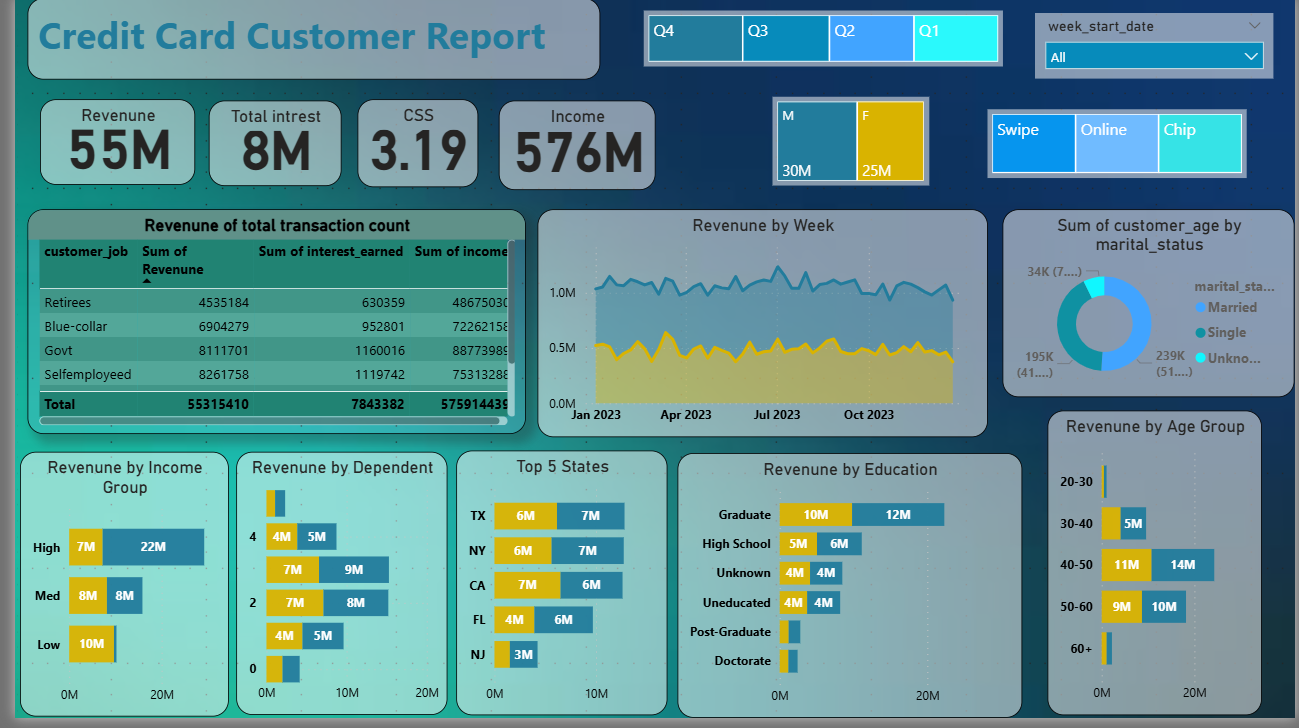

What the dashboard file says about the page in this screenshot:
{"tool":"powerbi","page":{"name":"CC Customer","canvas":[1280,720],"ordinal":2},"visuals":[{"type":"textbox","box":[12.5,0,572.5,81.2],"z":0},{"type":"tableEx","title":"Revenune of total transaction count","fields":{"Values":["public cust_detail.customer_job","Sum(public cc_detail.Revenune)","Sum(public cc_detail.interest_earned)","Sum(public cust_detail.income)"]},"box":[12.3,211.3,498.1,225],"z":1000},{"type":"card","title":" Revenune ","fields":{"Values":["Sum(public cc_detail.Revenune)"]},"box":[25.3,101.2,155.1,86],"z":2000},{"type":"card","title":" Income","fields":{"Values":["Sum(public cust_detail.income)"]},"box":[483.9,102.8,156.8,89.4],"z":3000},{"type":"card","title":"Total intrest ","fields":{"Values":["Sum(public cc_detail.interest_earned)"]},"box":[193.9,102.8,133.2,86],"z":4000},{"type":"card","title":"CSS","fields":{"Values":["Avg(public cust_detail.cust_satisfaction_score)"]},"box":[343.1,101.5,120.8,87.8],"z":5000},{"type":"slicer","fields":{"Values":["public cc_detail.week_start_date"]},"box":[1019.6,15.1,238.8,65.9],"z":6000},{"type":"treemap","fields":{"Group":["public cc_detail.qtr"],"Values":["Avg(public cc_detail.client_num)"]},"box":[628.5,12.3,359.5,56.3],"z":7000},{"type":"treemap","fields":{"Group":["public cc_detail.use_chip"],"Values":["Avg(public cc_detail.client_num)"]},"box":[972.9,111.1,259.3,68.6],"z":8000},{"type":"stackedAreaChart","title":"Revenune by Week","fields":{"Category":["public cc_detail.week_start_date.Variation.Date Hierarchy.Year","public cc_detail.week_start_date.Variation.Date Hierarchy.Month","public cc_detail.week_start_date.Variation.Date Hierarchy.Day"],"Y":["Sum(public cc_detail.Revenune)"],"Series":["public cust_detail.gender"]},"box":[522.8,211.3,450.1,227.8],"z":9000},{"type":"treemap","fields":{"Group":["public cust_detail.gender"],"Values":["Sum(public cc_detail.Revenune)"]},"box":[757.5,98.8,156.4,89.2],"z":10000},{"type":"barChart","title":"Revenune by Age Group","fields":{"Category":["public cust_detail.Age_group","public cust_detail.Income_group"],"Y":["Sum(public cc_detail.Revenune)"],"Series":["public cust_detail.gender"]},"box":[1031.9,413,214.1,304.6],"z":11000},{"type":"barChart","title":"Revenune by Income Group","fields":{"Category":["public cust_detail.Income_group"],"Y":["Sum(public cc_detail.Revenune)"],"Series":["public cust_detail.gender"]},"box":[5.5,454.2,208.6,264.8],"z":12000},{"type":"barChart","title":"Revenune by Dependent","fields":{"Category":["public cust_detail.dependent_count"],"Y":["Sum(public cc_detail.Revenune)"],"Series":["public cust_detail.gender"]},"box":[220.9,454.2,211.3,263.5],"z":13000},{"type":"barChart","title":"Revenune by  Education","fields":{"Category":["public cust_detail.education_level"],"Y":["Sum(public cc_detail.Revenune)"],"Series":["public cust_detail.gender"]},"box":[662.8,455.6,344.4,264.8],"z":14000},{"type":"barChart","title":"Top 5 States","fields":{"Category":["public cust_detail.state_cd"],"Y":["Sum(public cc_detail.Revenune)"],"Series":["public cust_detail.gender"]},"box":[441.9,452.8,211.3,264.8],"z":15000},{"type":"donutChart","fields":{"Y":["Sum(public cust_detail.customer_age)"],"Category":["public cust_detail.marital_status"]},"box":[988,211.3,292.3,188],"z":16000}]}

Visuals, with their boxes in screenshot pixels (x1, y1, x2, y2), scaled from the page's 1280x720 canvas onto the 1299x728 screenshot:
textbox: bbox=(13, 0, 594, 82)
"Revenune of total transaction count" tableEx: bbox=(12, 214, 518, 441)
" Revenune " card: bbox=(26, 102, 183, 189)
" Income" card: bbox=(491, 104, 650, 194)
"Total intrest " card: bbox=(197, 104, 332, 191)
"CSS" card: bbox=(348, 103, 471, 191)
slicer - public cc_detail.week_start_date: bbox=(1035, 15, 1277, 82)
treemap - public cc_detail.qtr x Avg(public cc_detail.client_num): bbox=(638, 12, 1003, 69)
treemap - public cc_detail.use_chip x Avg(public cc_detail.client_num): bbox=(987, 112, 1250, 182)
"Revenune by Week" stackedAreaChart: bbox=(531, 214, 987, 444)
treemap - public cust_detail.gender x Sum(public cc_detail.Revenune): bbox=(769, 100, 927, 190)
"Revenune by Age Group" barChart: bbox=(1047, 418, 1264, 726)
"Revenune by Income Group" barChart: bbox=(6, 459, 217, 727)
"Revenune by Dependent" barChart: bbox=(224, 459, 439, 726)
"Revenune by  Education" barChart: bbox=(673, 461, 1022, 727)
"Top 5 States" barChart: bbox=(448, 458, 663, 726)
donutChart - Sum(public cust_detail.customer_age) x public cust_detail.marital_status: bbox=(1003, 214, 1298, 404)
